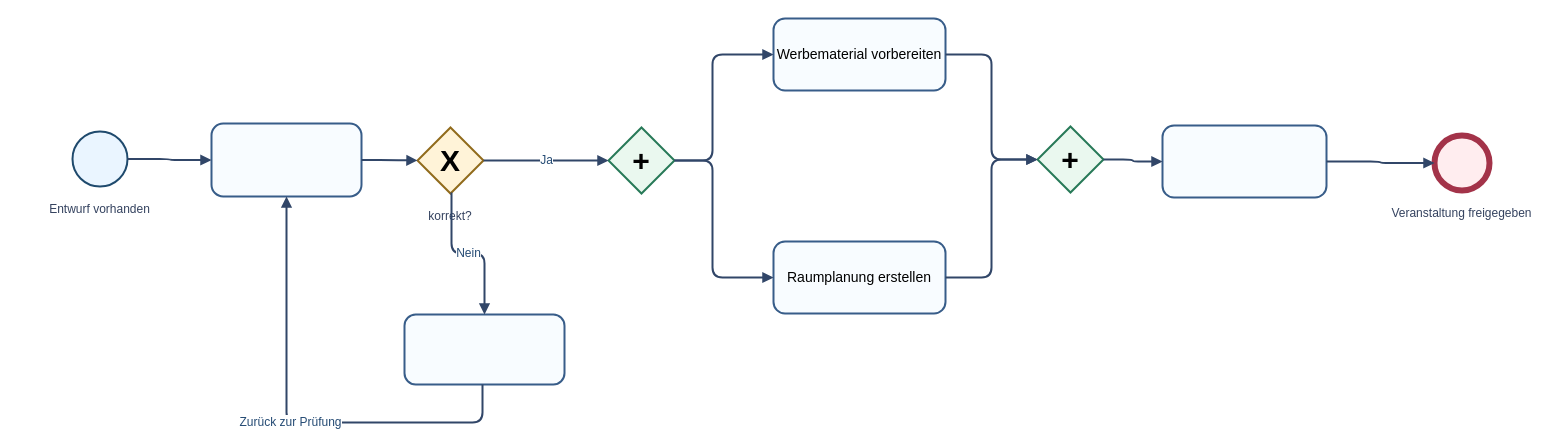
Image size: 1561x448. Some labels were removed from this diagram. Here are the shapes that lost their labels. From the top down, the centre of each, then its label:
At (x=286, y=159): "Entwurf prüfen".
At (x=1244, y=161): "Veranstaltung freigeben".
At (x=484, y=349): "Entwurf überarbeiten".
